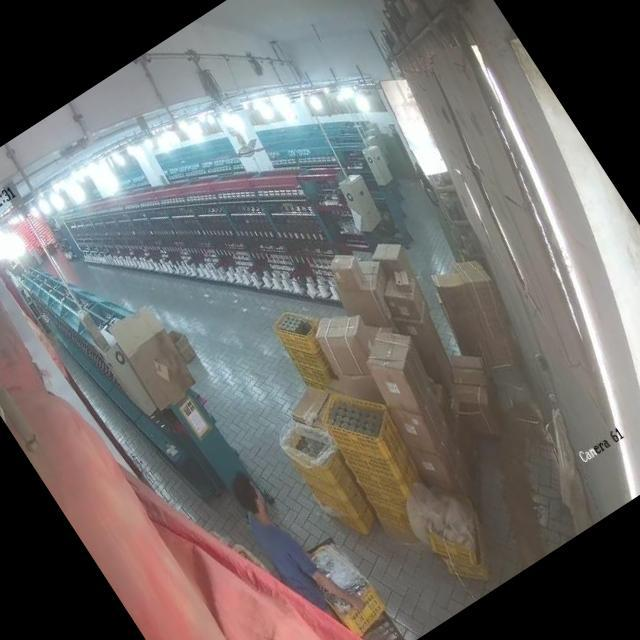person: (222, 462, 332, 600)
